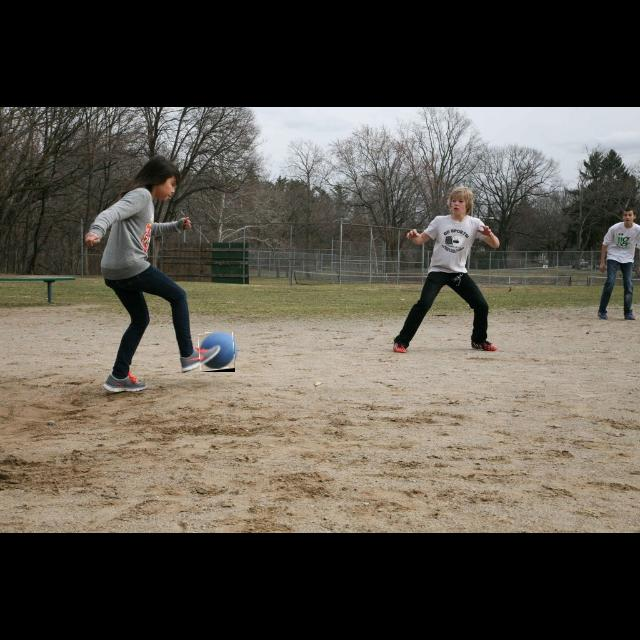Football: (199, 332, 235, 372)
